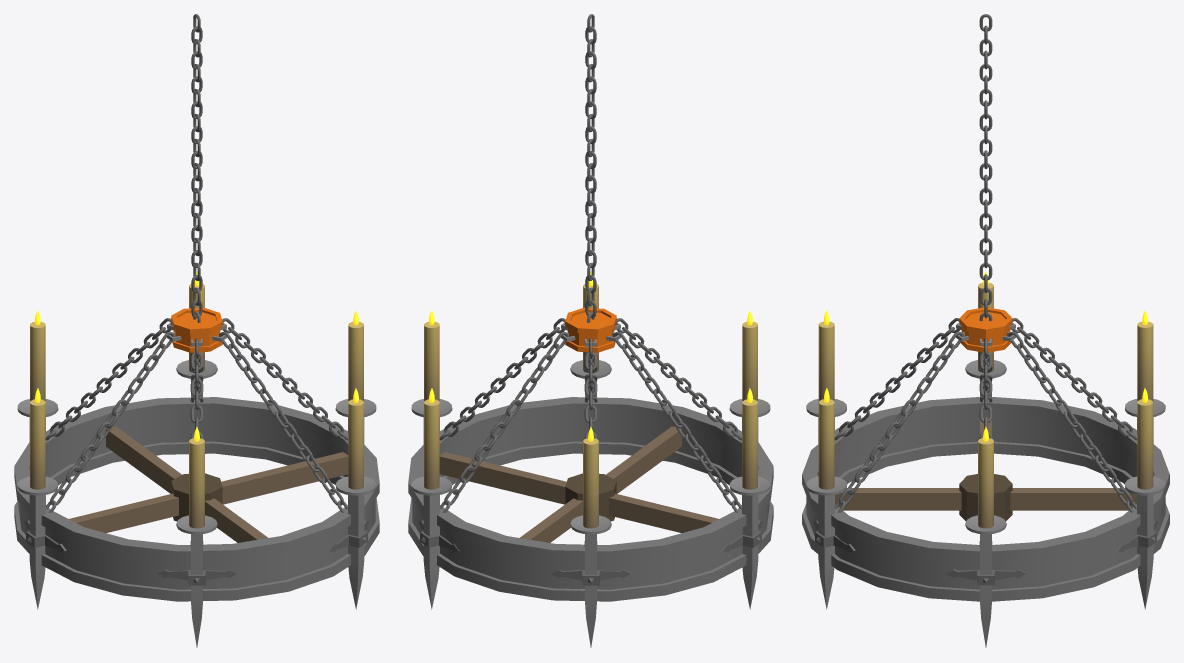
Rendered from candle_chandelier_b.FBX.
The picture shows the model from 3 angles, left to right: view 1: azimuth 30°, elevation 25°; view 2: azimuth 150°, elevation 25°; view 3: azimuth 270°, elevation 25°; orthographic projection.
Parts seen in each view (by area): view 1: candle_chandelier_b; view 2: candle_chandelier_b; view 3: candle_chandelier_b.
Part boxes in pixels (left/top/right/bottom): candle_chandelier_b: left=14, top=14, right=379, bottom=647; candle_chandelier_b: left=408, top=14, right=773, bottom=647; candle_chandelier_b: left=802, top=14, right=1169, bottom=647.
Size of the model in its own units: 1.33 by 2.01 by 1.2.
